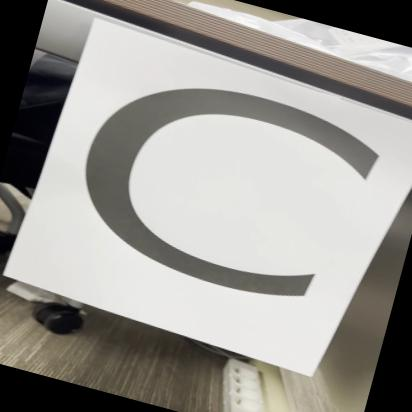seat: (23, 23, 412, 395)
